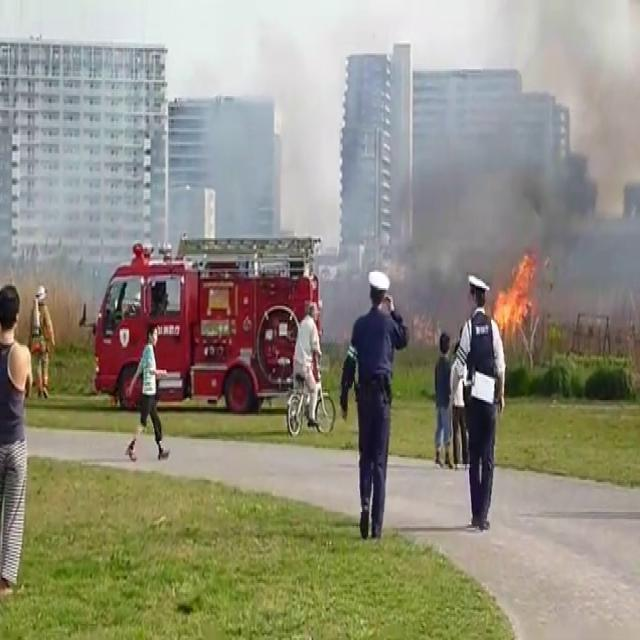Fire: (491, 251, 545, 336)
Smoke: (156, 0, 639, 274)
